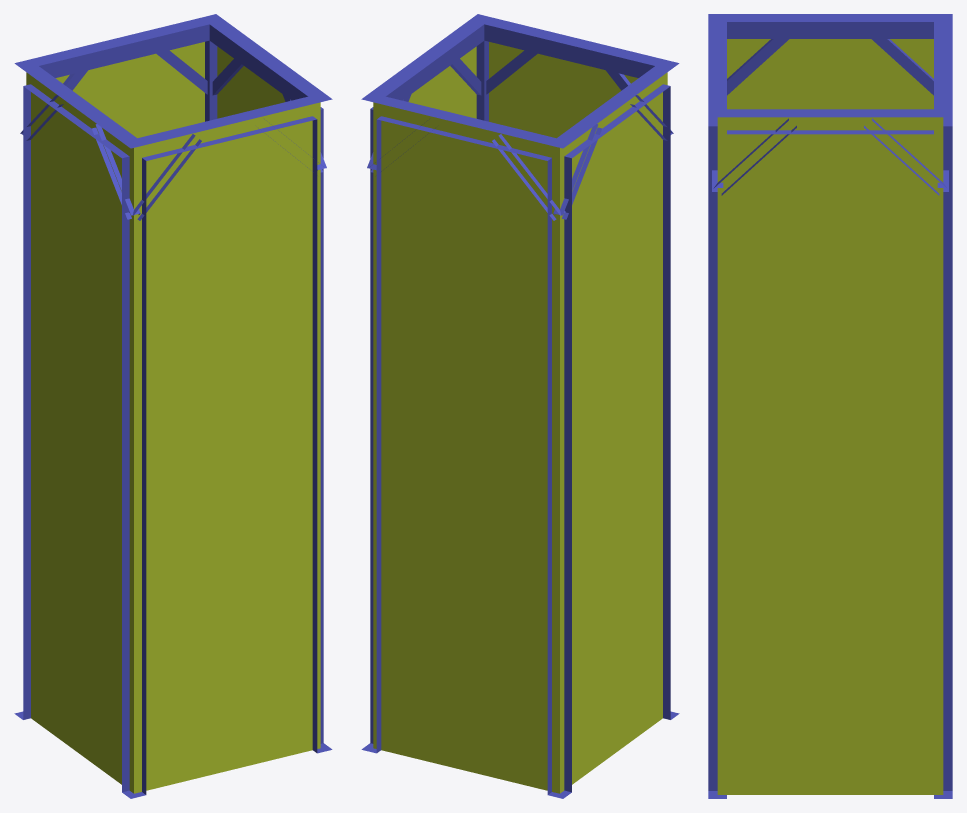
The model's file is Pit_1x1.FBX.
3 views of the same model, side by side, from view 1: azimuth 30°, elevation 25°; view 2: azimuth 150°, elevation 25°; view 3: azimuth 270°, elevation 25° (orthographic). The views are drawn at different scales.
Parts seen in each view (by area): view 1: Pit_1x1; view 2: Pit_1x1; view 3: Pit_1x1.
Boxes of the visible parts, x1,y1,x2,y2 form: Pit_1x1: (14,14,332,798); Pit_1x1: (361,14,679,798); Pit_1x1: (708,14,952,798).
Bounding box in the file's own units: 6.5 × 20 × 6.5.
